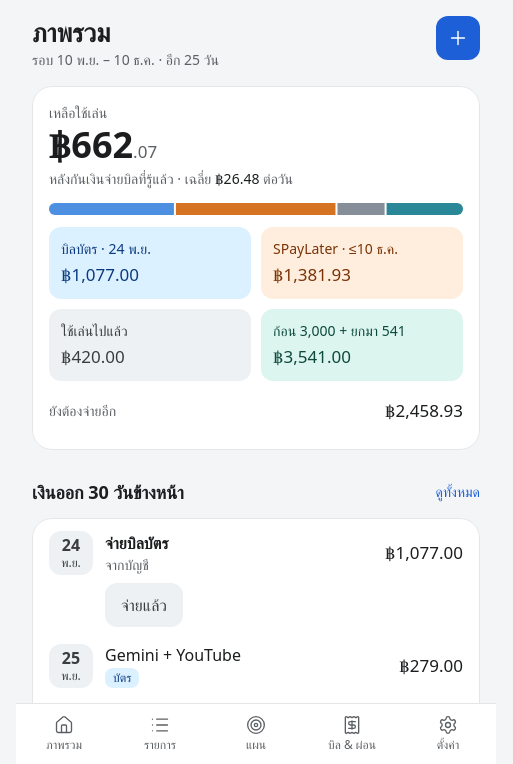
<PreviewHome> › paying the card bill updates "ยังต้องจ่ายอีก", keeps "เหลือใช้เล่น" and removes the 24 พ.ย. row
The width and height of the screenshot is (513, 764).
Expected: the picture named "เหลือ ฿662.07" is shown, [49,203,463,215]
Step 1. Click the button "จ่ายแล้ว" → [144, 605], box [105,583,183,627]
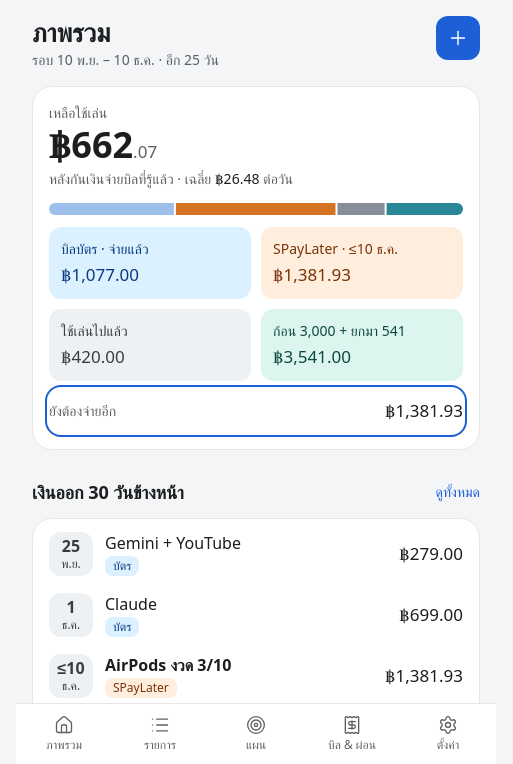
Expected: the element with test id "play-left" reads "฿662.07", [49,120,157,169]
Now the element with test id "owed" reads "฿1,381.93", box [385,399,463,423]
Now the text "จ่ายบิลบัตร" is gone
